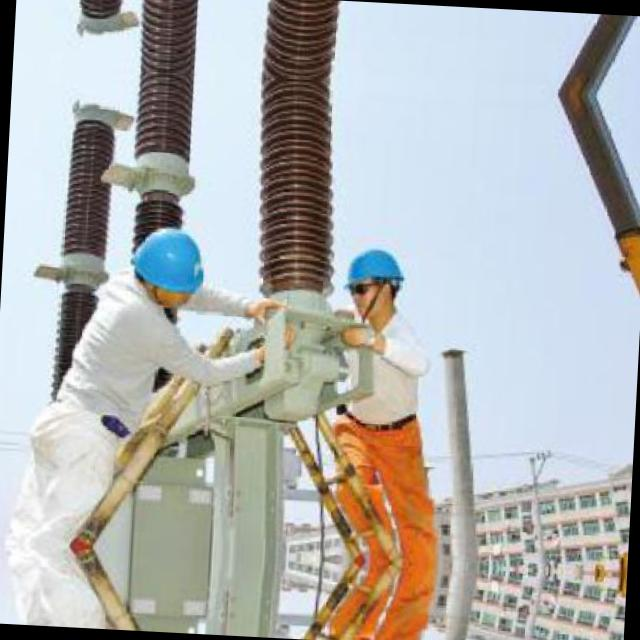helmet: (126, 214, 211, 318), (342, 235, 411, 332)
